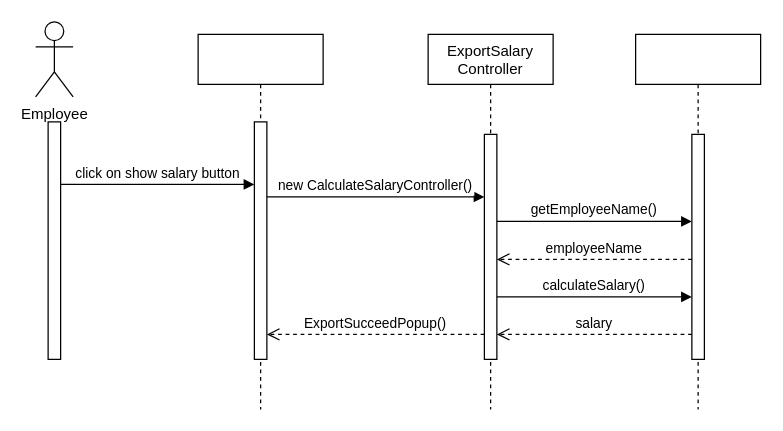
The diagram is 783 pixels wide and 431 high, and some of its shapes have lost their labels. The box of each missing label's shape, as (x1, y1, x2, y2) in pixels:
Database: (634, 33, 761, 409)
EmployeeHome PageView: (197, 33, 323, 409)
